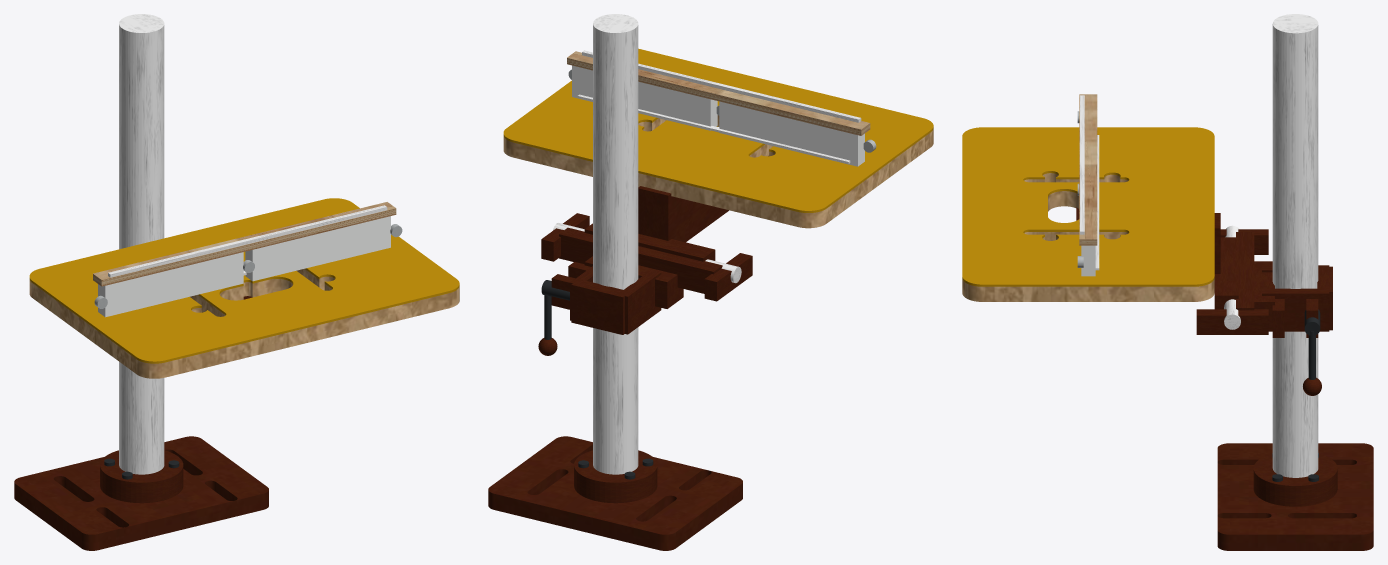
File: Industrial_Drill_press_table__0000.glb
The picture shows the model from 3 angles, left to right: view 1: azimuth 30°, elevation 25°; view 2: azimuth 150°, elevation 25°; view 3: azimuth 270°, elevation 25°; orthographic projection.
Parts seen in each view (by area): view 1: table::worktop_laminate, column::column_tube, column::base_plate, table::worktop_substrate, table::fence_face_0, table::fence_face_1, table::fence_wood_cap, column::base_flange, table::fence_top_track; view 2: table::worktop_laminate, column::column_tube, column::base_plate, table::worktop_substrate, table::fence_face_0, table::fence_wood_cap, table::underside_rib, table::fence_face_1, carriage::yoke_rail, column::base_flange, carriage::collar_rear, carriage::collar_side_0 (+6 smaller); view 3: table::worktop_laminate, column::column_tube, column::base_plate, table::worktop_substrate, column::base_flange, table::fence_wood_cap, carriage::collar_side_1, carriage::yoke_arm_1, table::underside_saddle, carriage::yoke_rail, carriage::saddle_block, table::fence_top_track (+2 smaller).
Boxes of the visible parts, x1,y1,x2,y2 form: table::worktop_laminate: [29, 198, 459, 363]; column::column_tube: [119, 14, 164, 474]; column::base_plate: [14, 436, 268, 550]; table::worktop_substrate: [29, 269, 459, 378]; table::fence_face_0: [98, 252, 243, 317]; table::fence_face_1: [245, 216, 390, 281]; table::fence_wood_cap: [93, 202, 396, 286]; column::base_flange: [100, 450, 183, 503]; table::fence_top_track: [108, 205, 387, 277]; table::worktop_laminate: [503, 48, 933, 212]; column::column_tube: [593, 14, 638, 474]; column::base_plate: [488, 436, 742, 550]; table::worktop_substrate: [503, 115, 933, 228]; table::fence_face_0: [719, 101, 864, 166]; table::fence_wood_cap: [567, 51, 870, 135]; table::underside_rib: [638, 186, 728, 242]; table::fence_face_1: [572, 65, 717, 130]; carriage::yoke_rail: [559, 227, 722, 293]; column::base_flange: [574, 450, 657, 503]; carriage::collar_rear: [571, 279, 629, 334]; carriage::collar_side_0: [618, 270, 661, 334]; table::worktop_laminate: [962, 127, 1214, 286]; column::column_tube: [1272, 14, 1318, 477]; column::base_plate: [1217, 443, 1373, 550]; table::worktop_substrate: [962, 173, 1214, 301]; column::base_flange: [1253, 453, 1337, 506]; table::fence_wood_cap: [1079, 94, 1097, 245]; carriage::collar_side_1: [1262, 288, 1329, 331]; carriage::yoke_arm_1: [1196, 309, 1268, 334]; table::underside_saddle: [1214, 237, 1238, 309]; carriage::yoke_rail: [1236, 232, 1254, 310]; carriage::saddle_block: [1254, 261, 1274, 328]; table::fence_top_track: [1080, 95, 1084, 234].
Size of the model in its own units: 0.62 by 0.885 by 0.685.
Materials: 8 (6 with a texture image).
